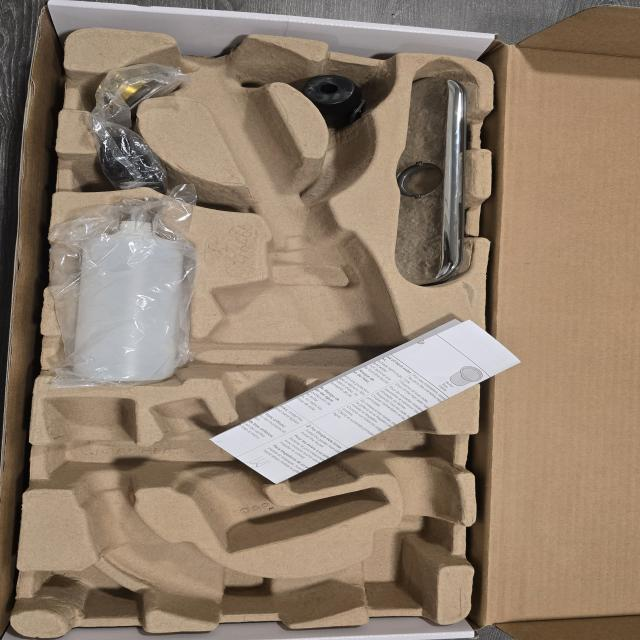1m: (45, 37, 455, 616)
2m: (151, 398, 390, 553)
3: (73, 208, 191, 382)
4: (394, 78, 465, 286)
5: (300, 75, 369, 128)
6: (92, 62, 186, 125)
7: (87, 117, 163, 189)
8: (207, 317, 524, 485)
